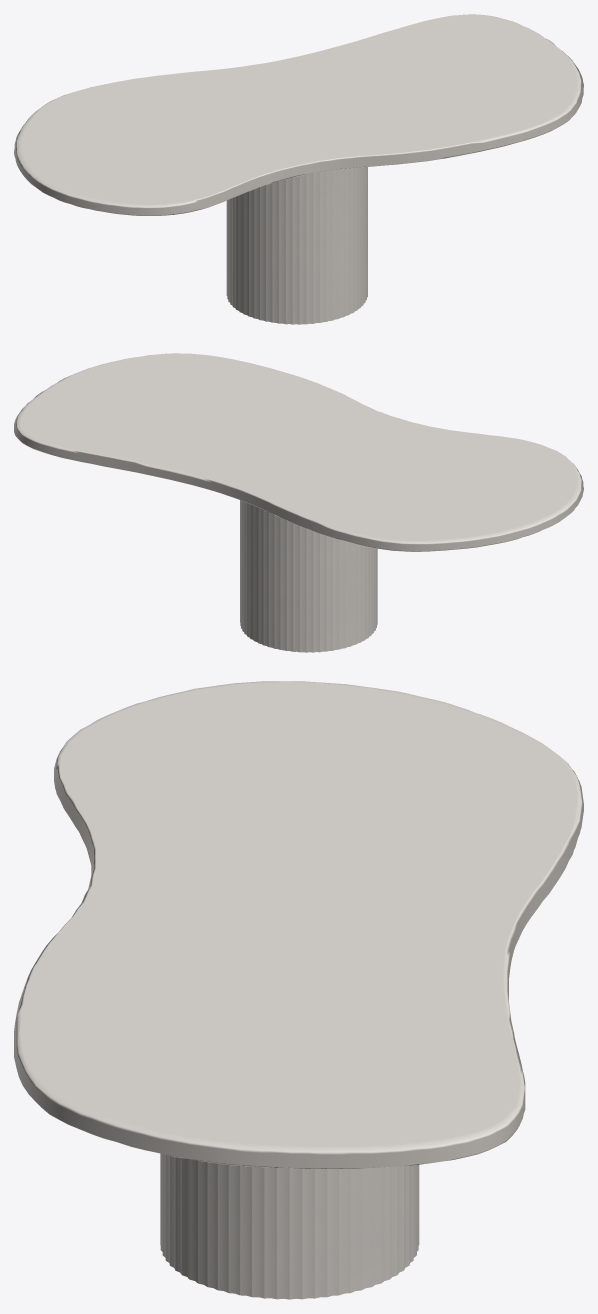
File: pearlwhite_wave_round_ripple.glb
3 renders of one model, top to bottom at view 1: azimuth 30°, elevation 25°; view 2: azimuth 150°, elevation 25°; view 3: azimuth 270°, elevation 25°, orthographic. The views are drawn at different scales.
Parts seen in each view (by area): view 1: round_wave, ripple; view 2: round_wave, ripple; view 3: round_wave, ripple.
Boxes of the visible parts, x1=… form: round_wave: x1=14, y1=14, x2=583, y2=215; ripple: x1=226, y1=167, x2=367, y2=324; round_wave: x1=14, y1=353, x2=583, y2=551; ripple: x1=240, y1=500, x2=377, y2=652; round_wave: x1=14, y1=681, x2=583, y2=1168; ripple: x1=160, y1=1153, x2=419, y2=1299.
Bounding box in the file's own units: 7.7 × 2.5 × 3.89.
Materials: 1 (1 with a texture image).
